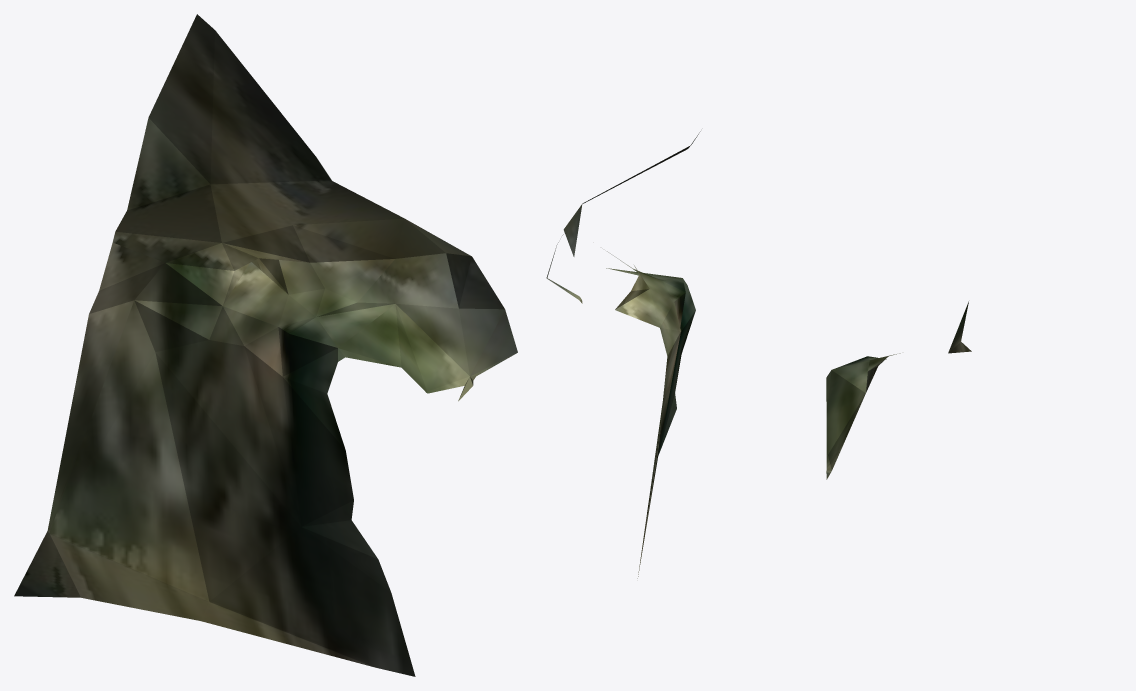
3 renders of one model, left to right at view 1: azimuth 30°, elevation 25°; view 2: azimuth 150°, elevation 25°; view 3: azimuth 270°, elevation 25°, orthographic. The views are drawn at different scales.
Size of the model in its own units: 1.11 by 2.37 by 1.1.
Materials: 1 (1 with a texture image).
